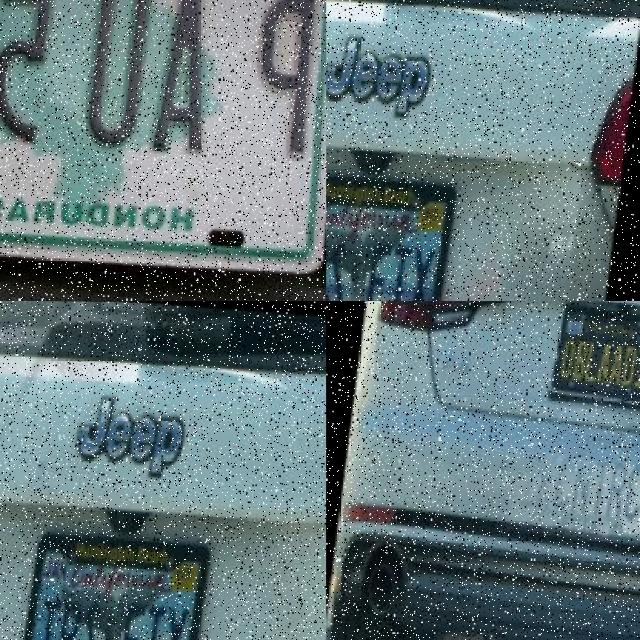licenseplate: (0, 0, 326, 186), (22, 529, 215, 640), (326, 165, 457, 300), (555, 303, 640, 400)
